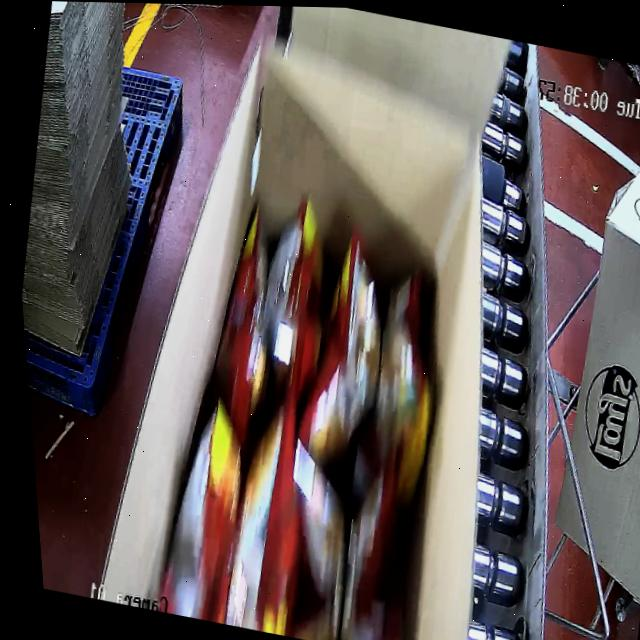MASALA: (112, 197, 473, 640)
